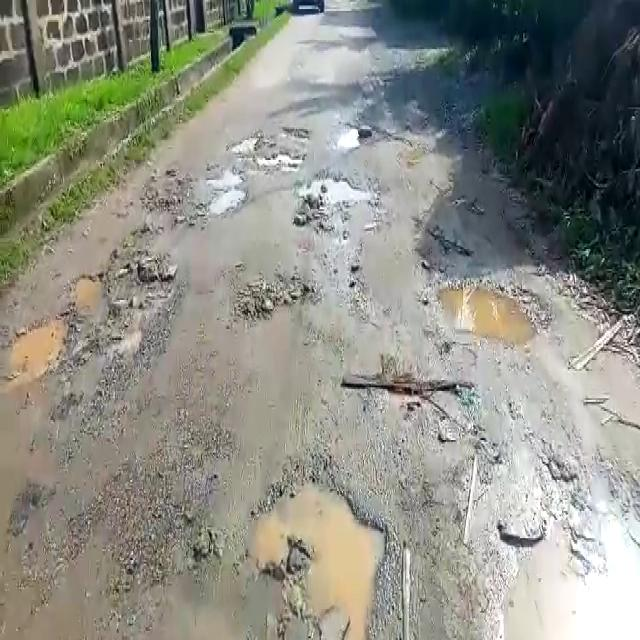Pothole: (246, 473, 391, 640), (498, 502, 640, 640), (441, 270, 553, 340), (73, 245, 176, 317), (0, 308, 73, 388), (289, 172, 378, 226), (198, 172, 249, 214), (255, 153, 307, 168), (336, 121, 360, 151), (226, 135, 258, 154), (280, 124, 312, 140)
